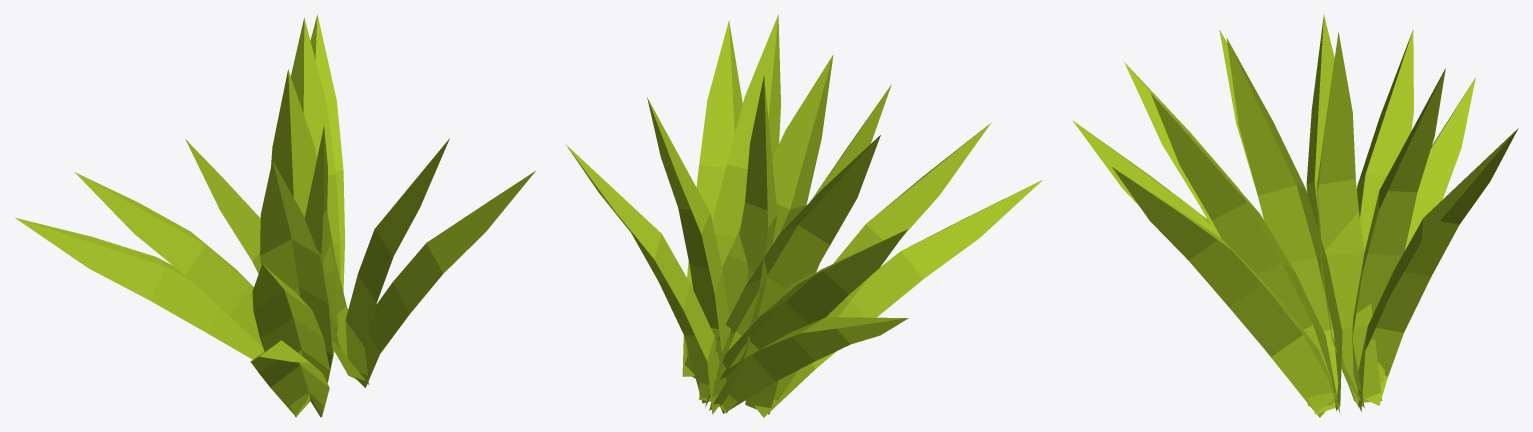
File: 06 Grass.FBX
3 renders of one model, left to right at view 1: azimuth 30°, elevation 25°; view 2: azimuth 150°, elevation 25°; view 3: azimuth 270°, elevation 25°, orthographic. The views are drawn at different scales.
Parts seen in each view (by area): view 1: Plant_2; view 2: Plant_2; view 3: Plant_2.
Part boxes in pixels (left/top/right/bottom): Plant_2: left=15, top=14, right=535, bottom=417; Plant_2: left=565, top=14, right=1042, bottom=417; Plant_2: left=1072, top=15, right=1518, bottom=417.
Bounding box in the file's own units: 249 × 235 × 258.
